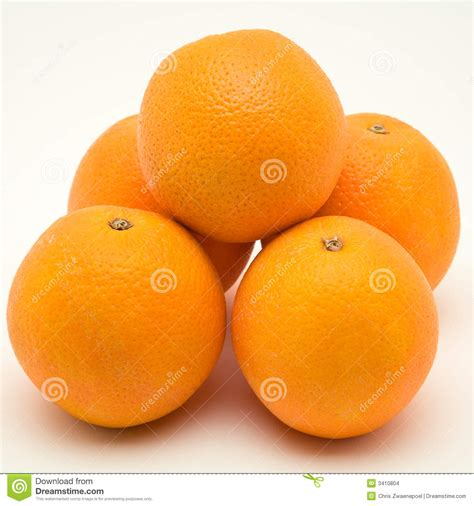orange: (1, 201, 227, 433), (225, 213, 442, 445), (134, 25, 343, 233), (304, 110, 465, 251)
